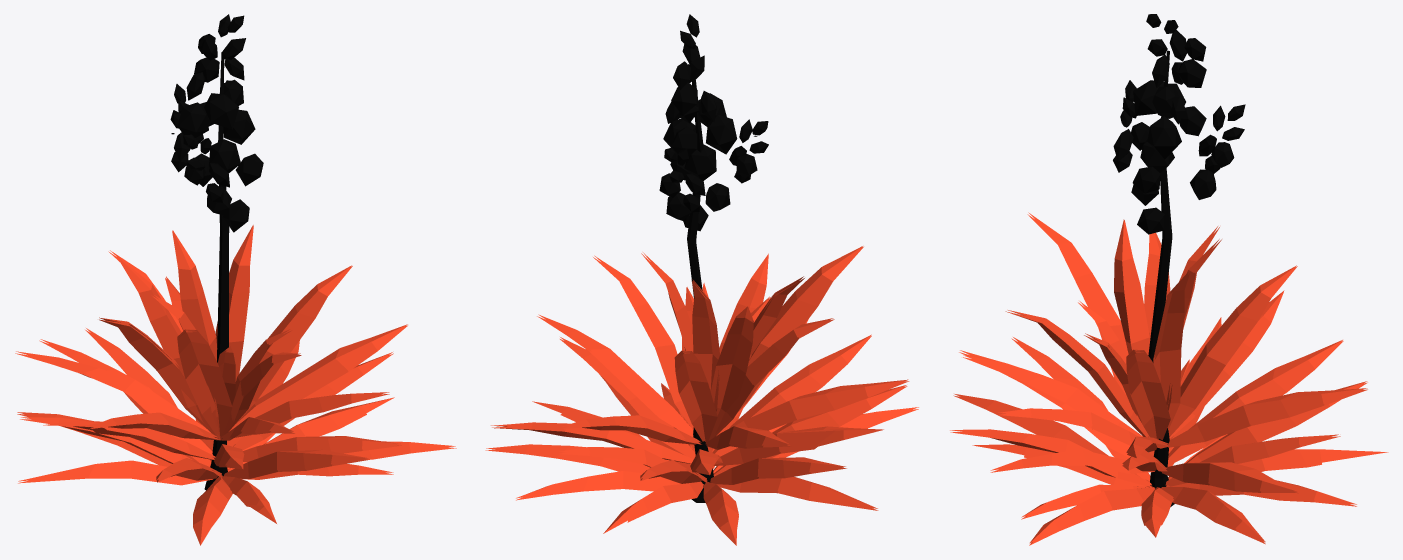
The model's file is SM_Plant_Yucca_B.fbx.
3 views of the same model, side by side, from view 1: azimuth 30°, elevation 25°; view 2: azimuth 150°, elevation 25°; view 3: azimuth 270°, elevation 25° (orthographic). The views are drawn at different scales.
Parts seen in each view (by area): view 1: SM_Plant_Yucca_B; view 2: SM_Plant_Yucca_B; view 3: SM_Plant_Yucca_B.
Boxes of the visible parts, box(x1,y1,x2,y2) form: SM_Plant_Yucca_B: box(15, 14, 456, 545); SM_Plant_Yucca_B: box(485, 14, 918, 545); SM_Plant_Yucca_B: box(950, 14, 1388, 545).
Bounding box in the file's own units: 1.72 × 2.11 × 1.69.
